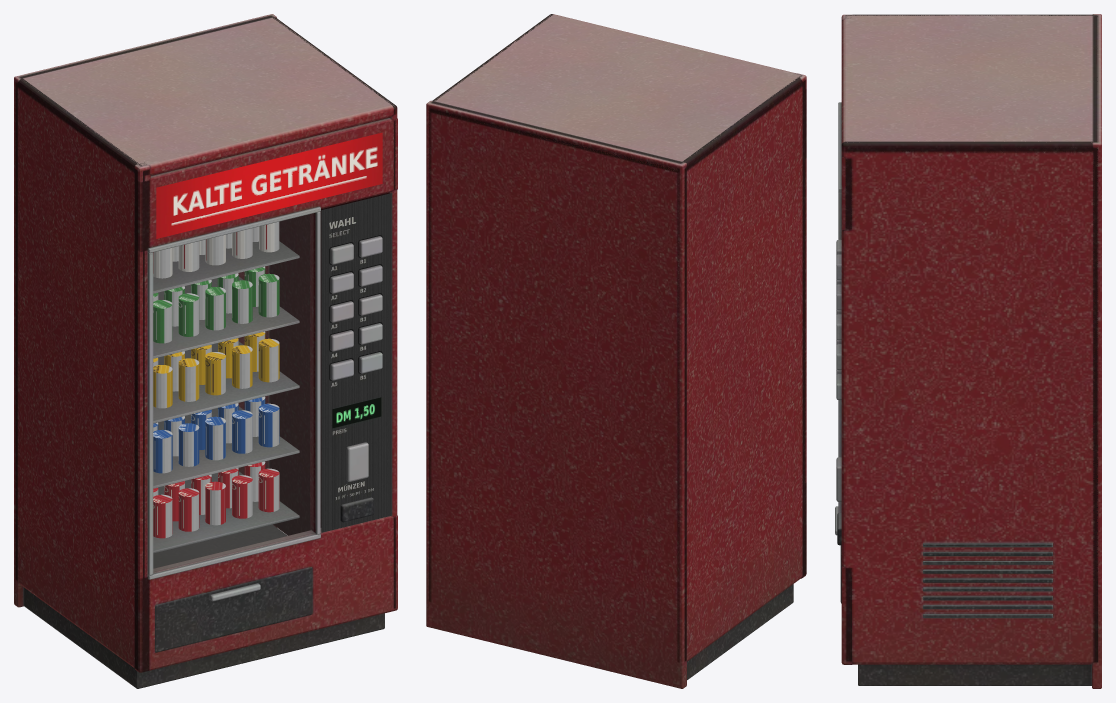
Rendered from vending_machine.glb.
3 renders of one model, left to right at view 1: azimuth 30°, elevation 25°; view 2: azimuth 150°, elevation 25°; view 3: azimuth 270°, elevation 25°, orthographic. The views are drawn at different scales.
Parts seen in each view (by area): view 1: vend_body, vend_cans, vend_panel, vend_header, vend_display; view 2: vend_body; view 3: vend_body.
Boxes of the visible parts, box(x1,y1,x2,y2) form: vend_body: box(14, 14, 397, 688); vend_cans: box(153, 221, 279, 538); vend_panel: box(321, 193, 392, 532); vend_header: box(156, 132, 382, 238); vend_display: box(332, 397, 381, 427); vend_body: box(426, 14, 806, 688); vend_body: box(835, 14, 1101, 688).
Size of the model in its own units: 0.954 by 1.85 by 0.8201.
11 materials, 10 textured.
